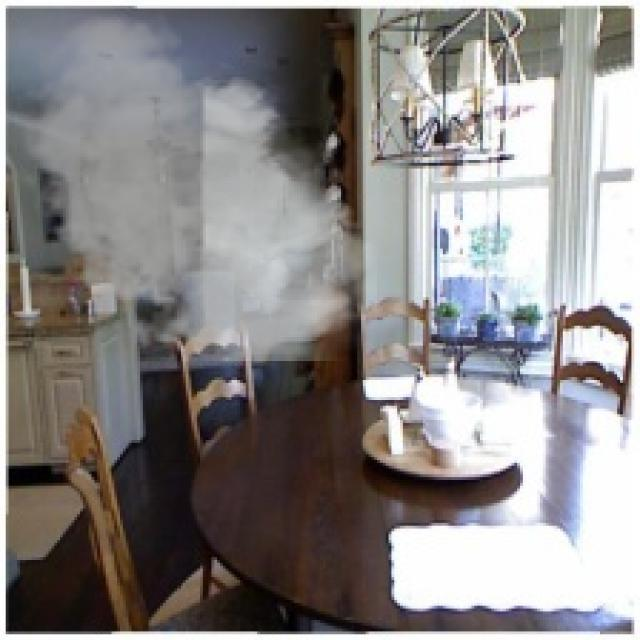Smoke: (9, 8, 378, 374)
